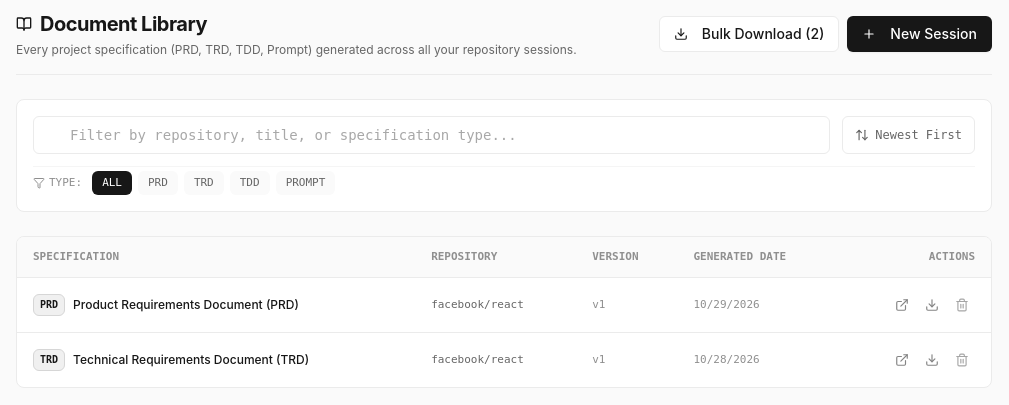
Module 15: Polish and Release › Library Page Component › filters documents by specification type pill
The width and height of the screenshot is (1009, 405).
Check: the text "Product Requirements Document (PRD)" is shown, box [73,297,299,313]
# Click TRD filter pill
Click the button "TRD": (204, 183) [184,171,224,195]
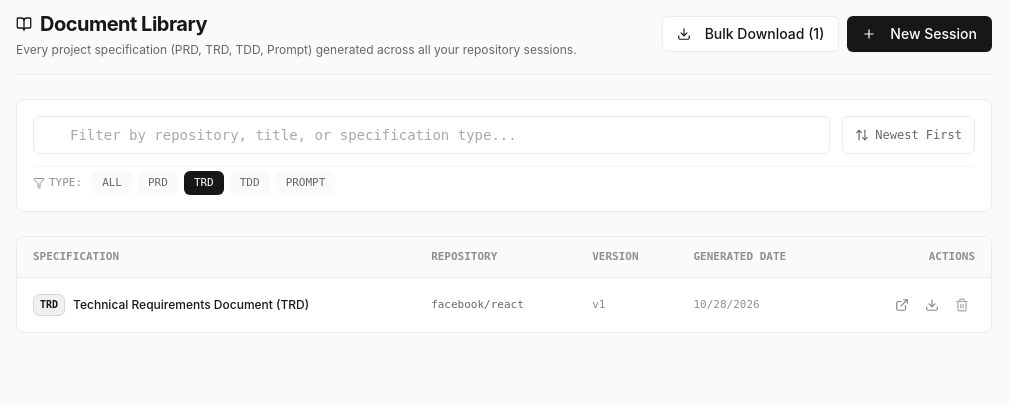
Check: the text "Technical Requirements Document (TRD)" is shown, box [73,297,309,313]
Check: the text "Product Requirements Document" is gone
